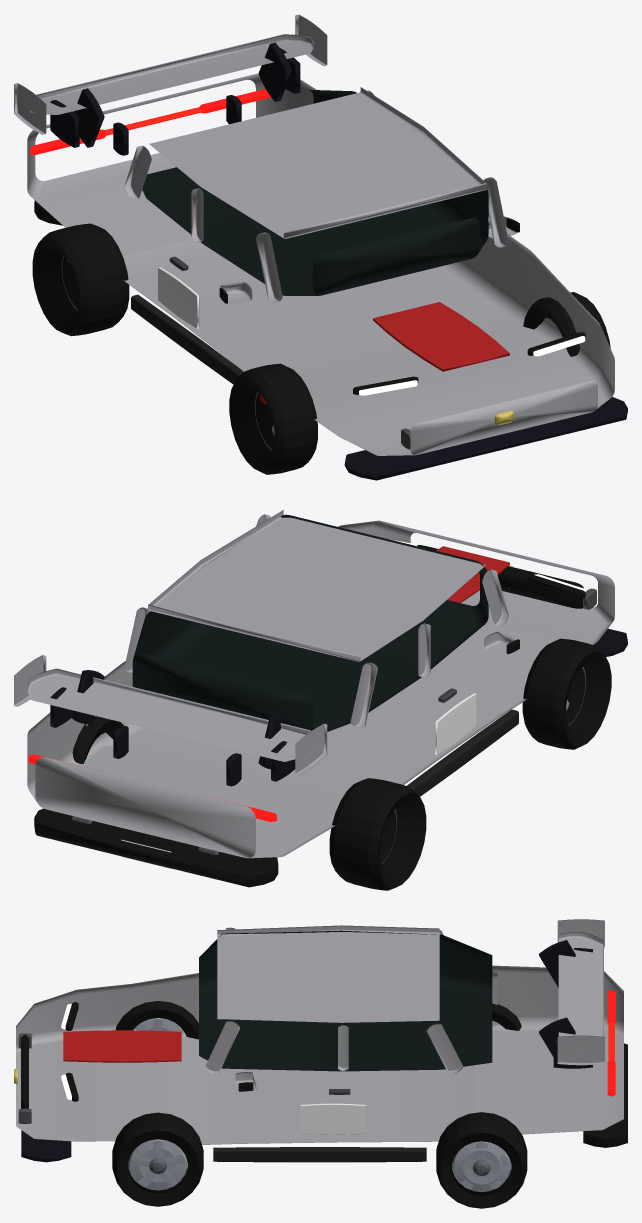
File: porsche_911_gt3r.glb
The picture shows the model from 3 angles, top to bottom: view 1: azimuth 30°, elevation 25°; view 2: azimuth 150°, elevation 25°; view 3: azimuth 270°, elevation 25°; orthographic projection. The views are drawn at different scales.
Visible parts, largest first — view 1: root, wheelRL, wheelFL, wheelFR; view 2: root, wheelRL, wheelFL, wheelRR; view 3: root, wheelRR, wheelFR, wheelFL, wheelRL.
Boxes of the visible parts, box(x1,y1,x2,y2) form: root: box(14, 14, 627, 480); wheelRL: box(32, 223, 129, 336); wheelFL: box(229, 363, 317, 474); wheelFR: box(523, 292, 610, 356); root: box(14, 510, 627, 887); wheelRL: box(329, 778, 426, 890); wheelFL: box(522, 638, 611, 749); wheelRR: box(72, 716, 123, 763); root: box(14, 919, 627, 1162); wheelRR: box(436, 1112, 527, 1208); wheelFR: box(112, 1112, 203, 1206); wheelFL: box(115, 1001, 198, 1039); wheelRL: box(492, 1003, 521, 1030).
Size of the model in its own units: 2.57 by 1.42 by 4.67.
